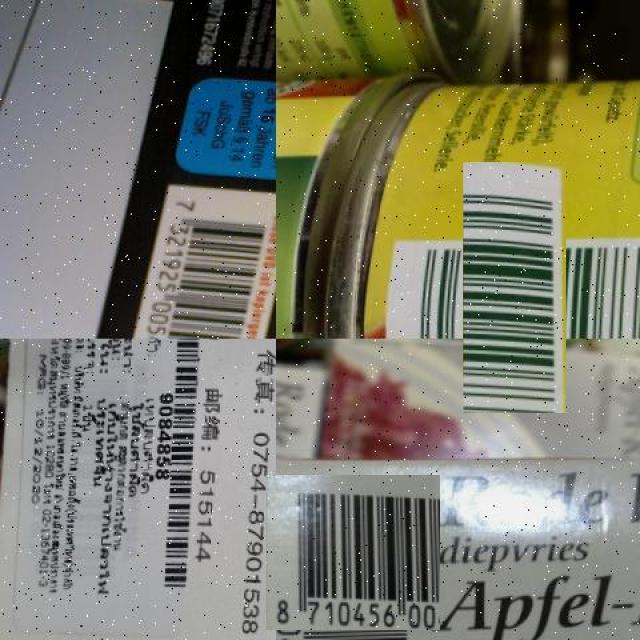Barcode: (425, 199, 603, 376), (271, 470, 436, 635), (127, 181, 276, 339), (150, 338, 210, 602)
